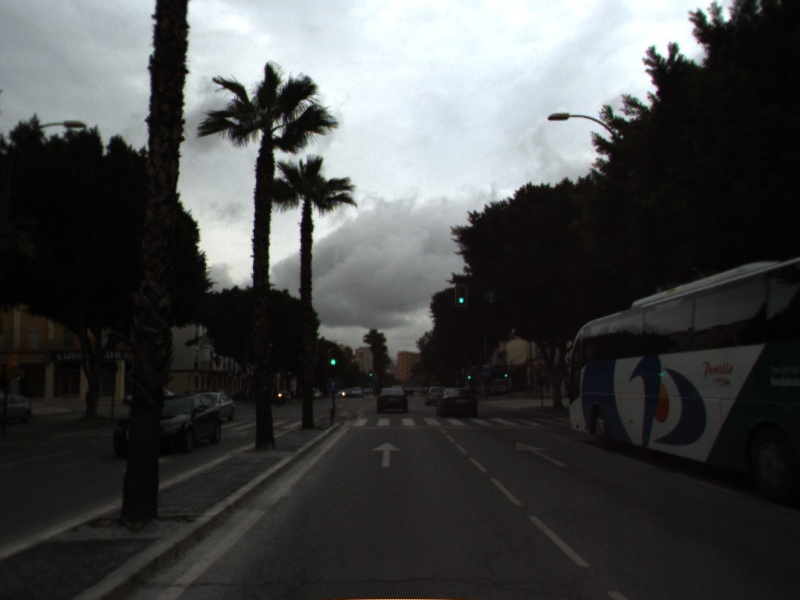STRAIGHT: (512, 439, 571, 469), (370, 440, 404, 469)
